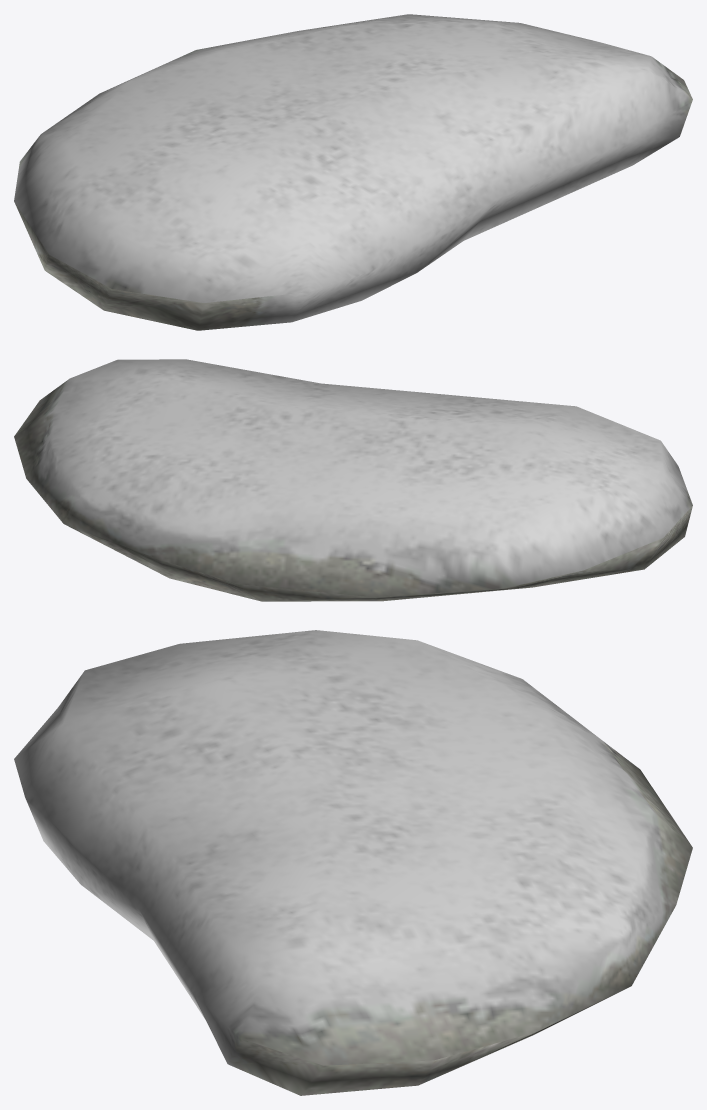
File: general_obj_stone14.fbx
3 views of the same model, one above another, from view 1: azimuth 30°, elevation 25°; view 2: azimuth 150°, elevation 25°; view 3: azimuth 270°, elevation 25° (orthographic). The views are drawn at different scales.
Parts seen in each view (by area): view 1: Sphere01; view 2: Sphere01; view 3: Sphere01.
Part boxes in pixels (x1,y1,x2,y2): Sphere01: (14,14,692,330); Sphere01: (14,359,692,601); Sphere01: (14,630,692,1095).
Bounding box in the file's own units: 6.72 × 1.06 × 4.74.
